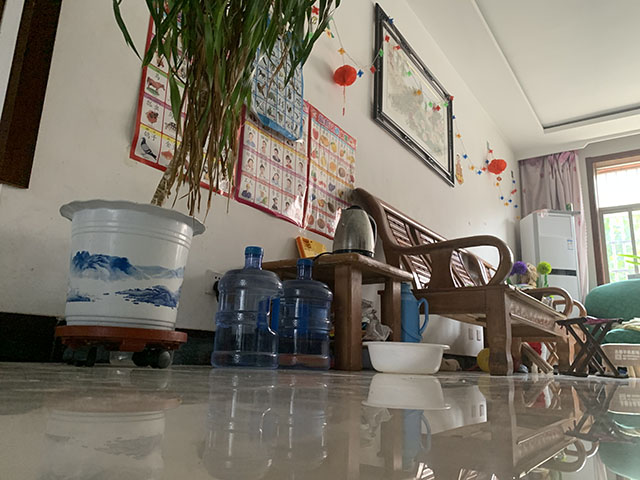sofa: (350, 186, 589, 376)
stool: (555, 314, 630, 381)
table: (262, 252, 414, 373)
